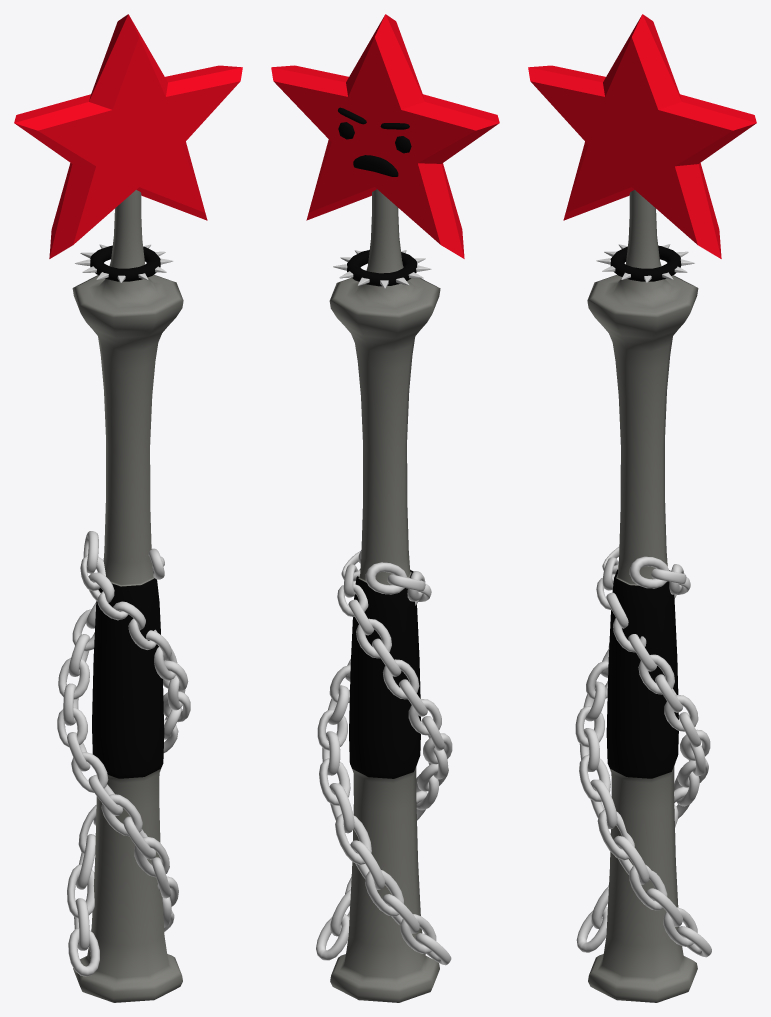
The model's file is varaMirela.fbx.
3 views of the same model, side by side, from view 1: azimuth 30°, elevation 25°; view 2: azimuth 150°, elevation 25°; view 3: azimuth 330°, elevation 25° (orthographic).
Parts seen in each view (by area): view 1: Cube.001, Cube, Cube.004, Cube.003, Cube.002, Cube.008; view 2: Cube.001, Cube, Cube.004, Cube.003, Cube.006, Cube.002, Cube.008; view 3: Cube.001, Cube, Cube.003, Cube.004, Cube.002, Cube.008.
Boxes of the visible parts, x1=… form: Cube.001: x1=72, y1=190, x2=183, y2=1002; Cube: x1=14, y1=14, x2=242, y2=258; Cube.004: x1=67, y1=531, x2=190, y2=976; Cube.003: x1=57, y1=548, x2=178, y2=931; Cube.002: x1=90, y1=245, x2=160, y2=281; Cube.008: x1=75, y1=244, x2=173, y2=282; Cube.001: x1=329, y1=189, x2=440, y2=1002; Cube: x1=271, y1=14, x2=499, y2=258; Cube.004: x1=317, y1=562, x2=451, y2=965; Cube.003: x1=316, y1=550, x2=452, y2=960; Cube.006: x1=338, y1=107, x2=411, y2=176; Cube.002: x1=347, y1=250, x2=417, y2=286; Cube.008: x1=333, y1=250, x2=431, y2=288; Cube.001: x1=587, y1=190, x2=698, y2=1002; Cube: x1=528, y1=14, x2=756, y2=258; Cube.003: x1=575, y1=556, x2=711, y2=957; Cube.004: x1=576, y1=547, x2=710, y2=952; Cube.002: x1=610, y1=245, x2=681, y2=281; Cube.008: x1=596, y1=244, x2=694, y2=282.
Bounding box in the file's own units: 239 × 968 × 108.
